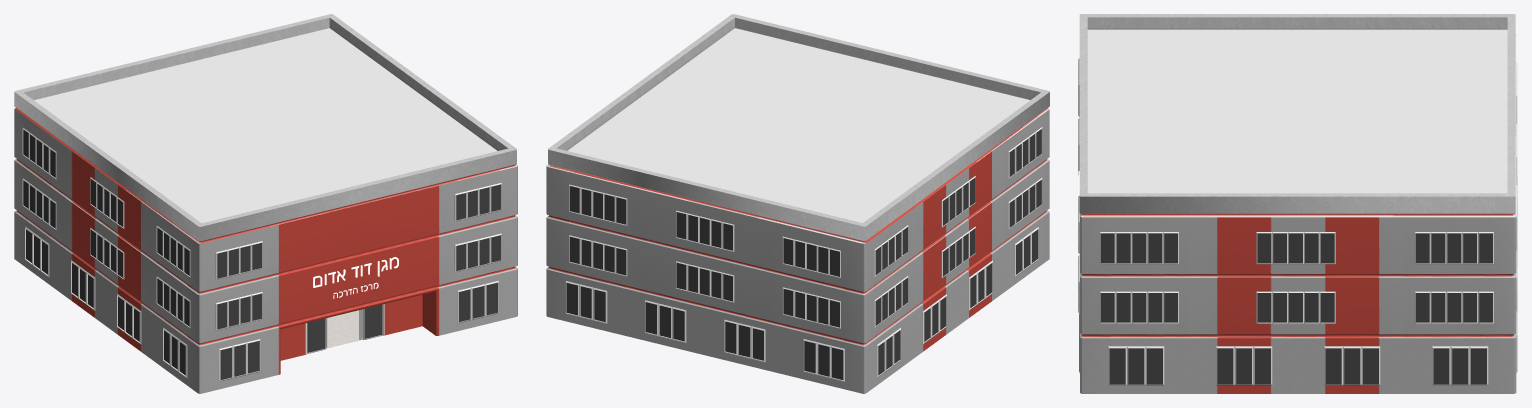
File: SM_MadaCenter_01.fbx
3 views of the same model, side by side, from view 1: azimuth 30°, elevation 25°; view 2: azimuth 150°, elevation 25°; view 3: azimuth 270°, elevation 25° (orthographic). The views are drawn at different scales.
Parts seen in each view (by area): view 1: SM_Roof, SM_Walls, SM_Floor_up, Windows_1, MC_Windows, Windows_2, MC_Windows1, Windows, SM_Floor, SM_Sine; view 2: SM_Roof, SM_Walls, SM_Floor_up, Windows_1, MC_Windows, Windows_2, MC_Windows1; view 3: SM_Roof, SM_Walls, SM_Floor_up, Windows_1, Windows_2, MC_Windows, MC_Windows1.
Boxes of the visible parts, x1,y1,x2,y2 form: SM_Roof: [14, 14, 517, 243]; SM_Walls: [14, 160, 517, 393]; SM_Floor_up: [14, 109, 517, 295]; Windows_1: [23, 180, 500, 379]; MC_Windows: [22, 178, 501, 381]; Windows_2: [23, 129, 500, 278]; MC_Windows1: [22, 128, 501, 279]; Windows: [307, 304, 382, 352]; SM_Floor: [326, 310, 362, 348]; SM_Sine: [313, 257, 398, 298]; SM_Roof: [547, 14, 1049, 243]; SM_Walls: [546, 160, 1049, 393]; SM_Floor_up: [546, 109, 1049, 295]; Windows_1: [566, 180, 1041, 379]; MC_Windows: [565, 178, 1042, 381]; Windows_2: [570, 129, 1041, 276]; MC_Windows1: [569, 127, 1042, 277]; SM_Roof: [1079, 14, 1516, 217]; SM_Walls: [1080, 277, 1516, 393]; SM_Floor_up: [1080, 216, 1516, 277]; Windows_1: [1101, 293, 1492, 385]; Windows_2: [1101, 233, 1492, 263]; MC_Windows: [1078, 118, 1517, 385]; MC_Windows1: [1078, 58, 1517, 264].
Size of the model in its own units: 2955 by 1469 by 2973.
